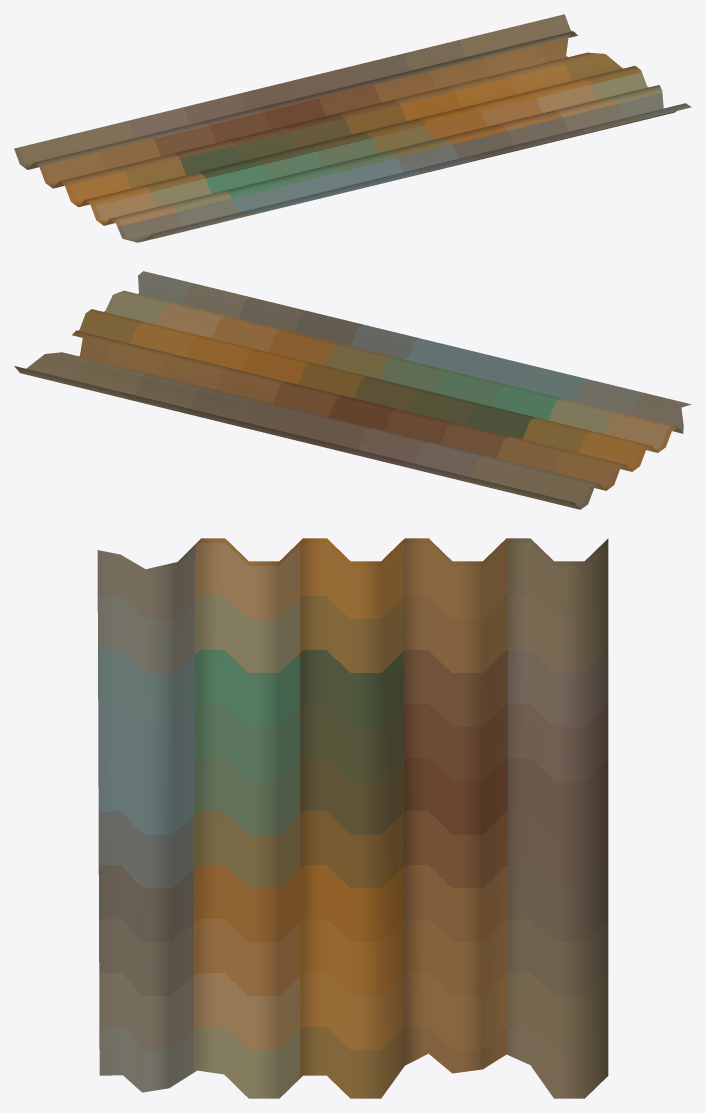
Rendered from SM_corrugated_metal_01.fbx.
The picture shows the model from 3 angles, top to bottom: view 1: azimuth 30°, elevation 25°; view 2: azimuth 150°, elevation 25°; view 3: azimuth 270°, elevation 25°; orthographic projection. The views are drawn at different scales.
Parts seen in each view (by area): view 1: SM_corrugated_metal_01_LOD0; view 2: SM_corrugated_metal_01_LOD0; view 3: SM_corrugated_metal_01_LOD0.
Part boxes in pixels (box(x1,y1,x2,y2)): SM_corrugated_metal_01_LOD0: box(14, 14, 691, 242); SM_corrugated_metal_01_LOD0: box(14, 271, 691, 509); SM_corrugated_metal_01_LOD0: box(97, 538, 608, 1098).
Size of the model in its own units: 250 by 100 by 5.
